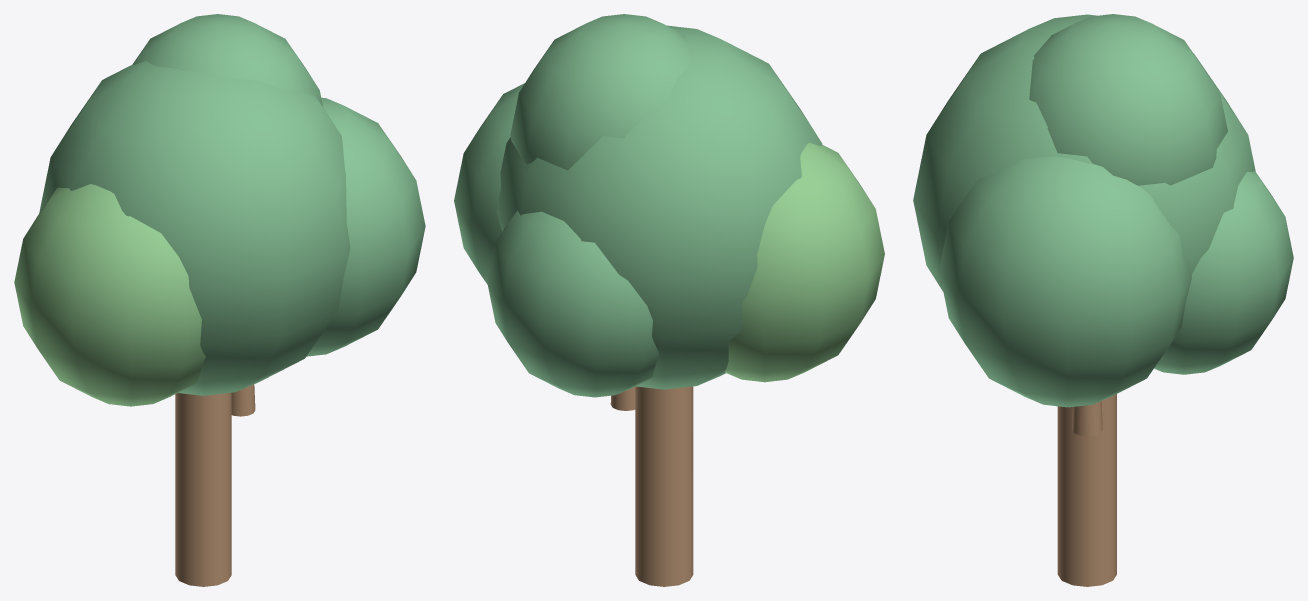
The model's file is tree-procedural.glb.
3 renders of one model, left to right at view 1: azimuth 30°, elevation 25°; view 2: azimuth 150°, elevation 25°; view 3: azimuth 270°, elevation 25°, orthographic. The views are drawn at different scales.
Visible parts, largest first — view 1: crown (×4), trunk, branch; view 2: crown (×5), trunk; view 3: crown (×4), trunk, branch.
Boxes of the visible parts, x1=… form: crown (×4): x1=14, y1=14, x2=425, y2=406; trunk: x1=175, y1=392, x2=231, y2=586; branch: x1=231, y1=384, x2=255, y2=416; crown (×5): x1=454, y1=14, x2=884, y2=397; trunk: x1=635, y1=386, x2=693, y2=586; crown (×4): x1=913, y1=14, x2=1293, y2=407; trunk: x1=1057, y1=394, x2=1116, y2=586; branch: x1=1072, y1=401, x2=1102, y2=436.
Bounding box in the file's own units: 3.6 × 4.82 × 2.95.
